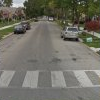crosswalk: (0, 69, 99, 86)
